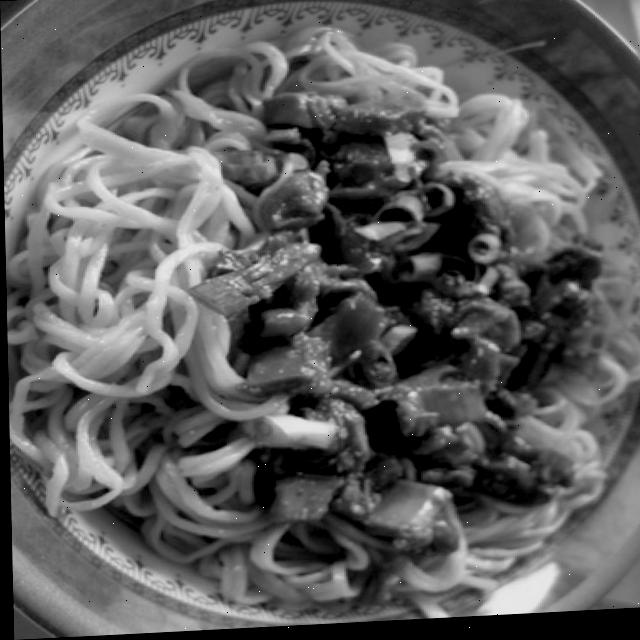面条主食: (18, 5, 640, 633)
